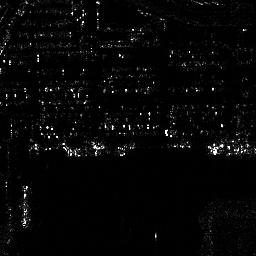ship: (208, 140, 256, 160), (19, 184, 31, 228)
